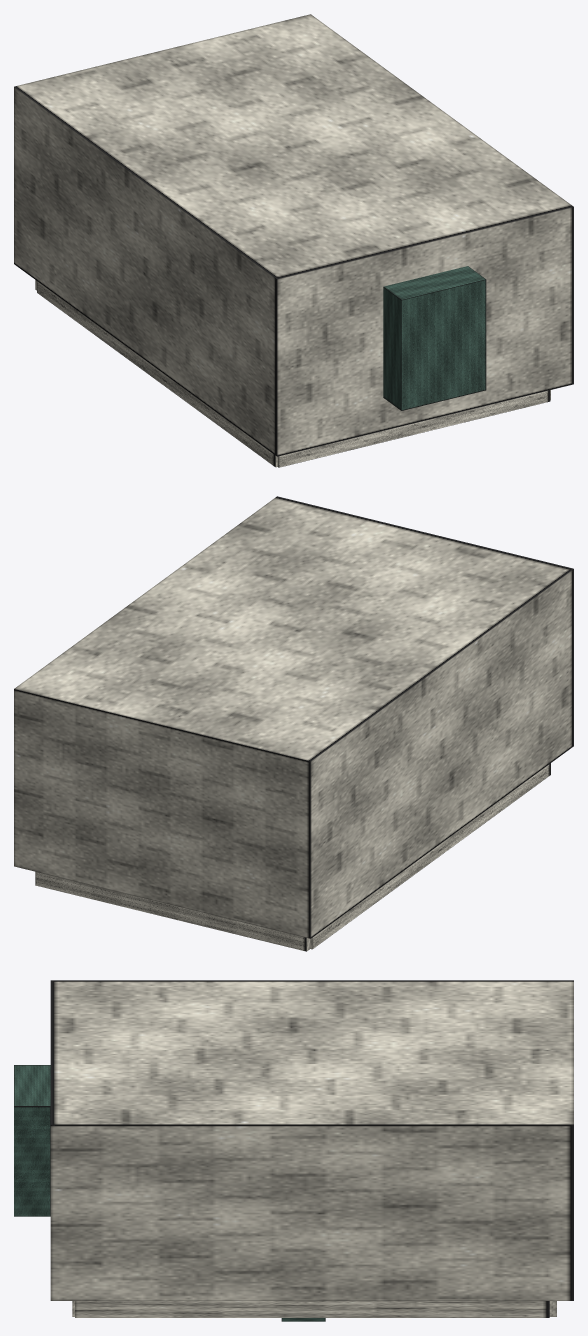
The model's file is boneglass_growth_chamber.obj.
3 renders of one model, top to bottom at view 1: azimuth 30°, elevation 25°; view 2: azimuth 150°, elevation 25°; view 3: azimuth 270°, elevation 25°, orthographic.
Parts seen in each view (by area): view 1: boneglass_growth_chamber; view 2: boneglass_growth_chamber; view 3: boneglass_growth_chamber.
Part boxes in pixels (x1,y1,x2,y2): boneglass_growth_chamber: [14, 14, 573, 467]; boneglass_growth_chamber: [14, 496, 573, 951]; boneglass_growth_chamber: [14, 980, 573, 1321].
Size of the model in its own units: 1.4 by 0.93 by 2.3.
4 materials, 4 textured.
